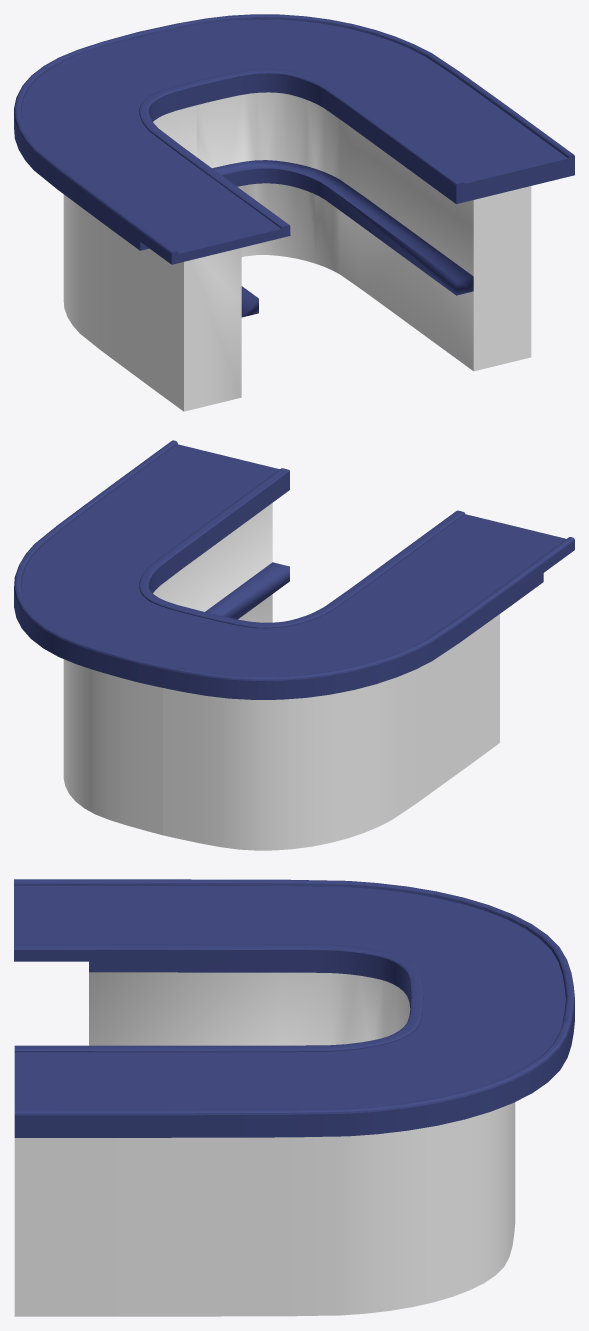
File: 03a26b1c-206a-4fed-a189-b6a122582f8a.glb
3 renders of one model, top to bottom at view 1: azimuth 30°, elevation 25°; view 2: azimuth 150°, elevation 25°; view 3: azimuth 270°, elevation 25°, orthographic. The views are drawn at different scales.
Parts seen in each view (by area): view 1: RoundBar.005; view 2: RoundBar.005; view 3: RoundBar.005.
Boxes of the visible parts, box(x1,y1,x2,y2) form: RoundBar.005: box(14, 14, 574, 411); RoundBar.005: box(14, 440, 574, 850); RoundBar.005: box(14, 879, 574, 1316).
Size of what is drawn, in the model's own units: 2.42 by 1.1 by 2.45.
Materials: 1 (1 with a texture image).
